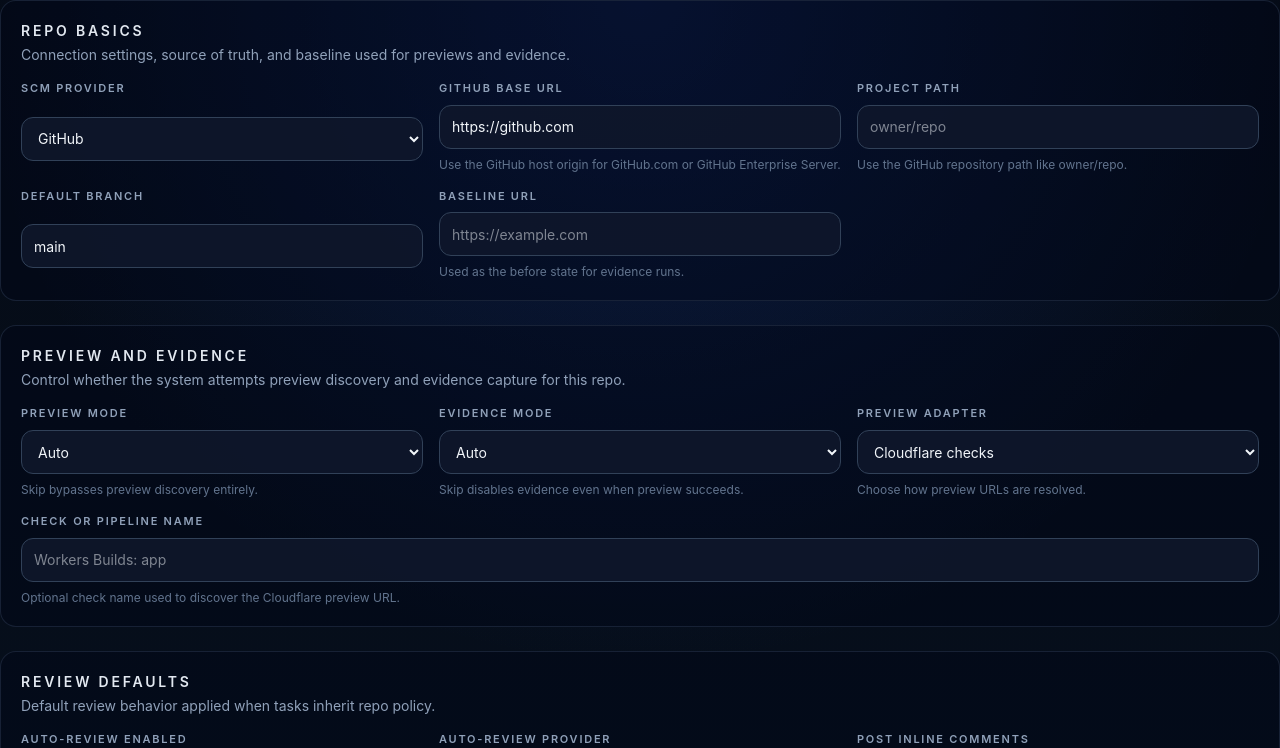
Test: RepoForm › switches repo settings copy and defaults when GitLab is selected
This screenshot has width=1280, height=748.
Expected: the text "GitHub base URL" is shown once, [439,81,564,95]
Expected: the field with placeholder "owner/repo" is shown, [857,105,1259,149]
Select "GitLab" in the dropdown labelled "SCM provider" at (222, 139), box [21,117,423,161]
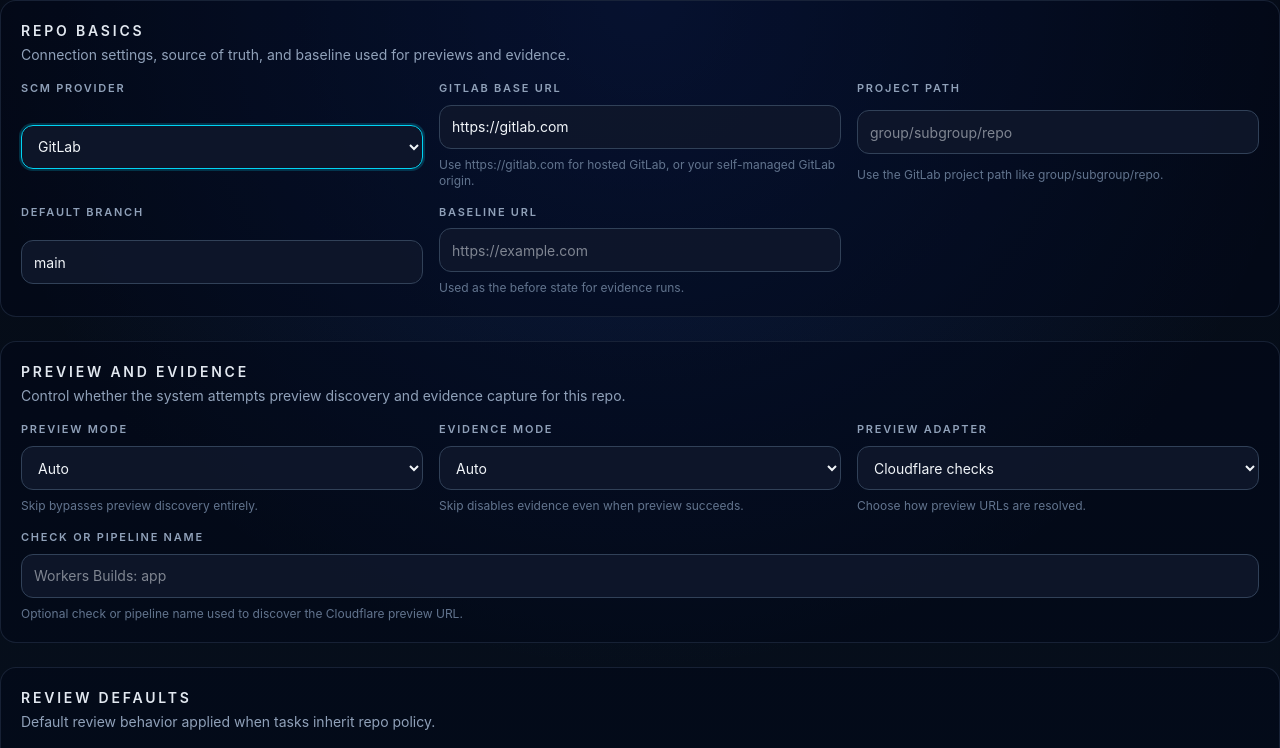
Result: the text "GitLab base URL" is shown at [439,81,561,95]
Result: the field with placeholder "group/subgroup/repo" is shown at [857,110,1259,154]
Result: the field showing "https://gitlab.com" is shown at [439,105,841,149]
